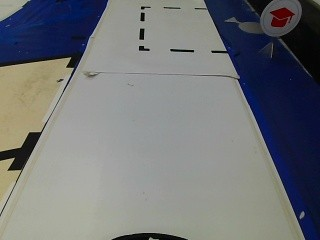school: (260, 0, 302, 38)
